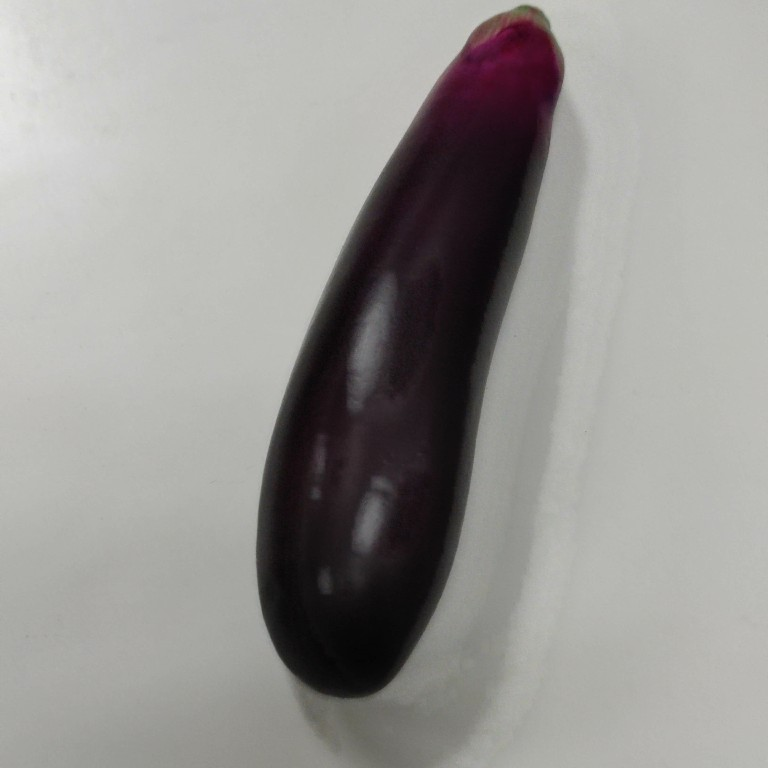fruit_eggplant: (247, 1, 572, 705)
